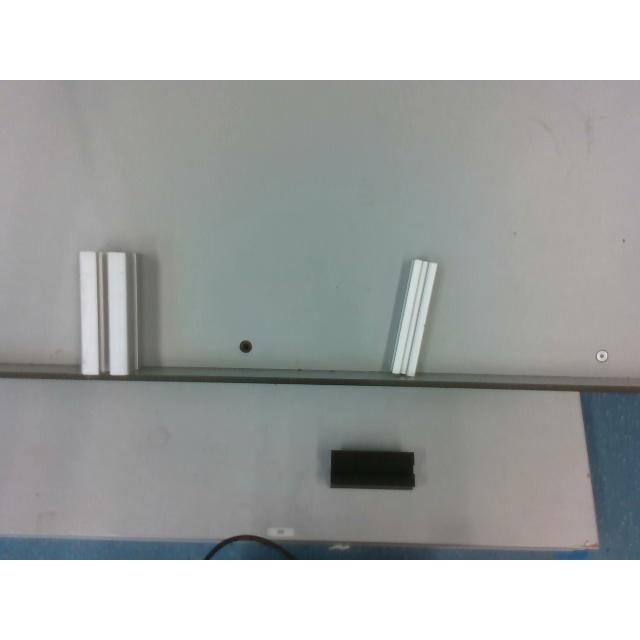F20_20_G: (390, 258, 438, 378)
S40_40_B: (330, 448, 414, 488)
S40_40_G: (80, 252, 140, 376)
